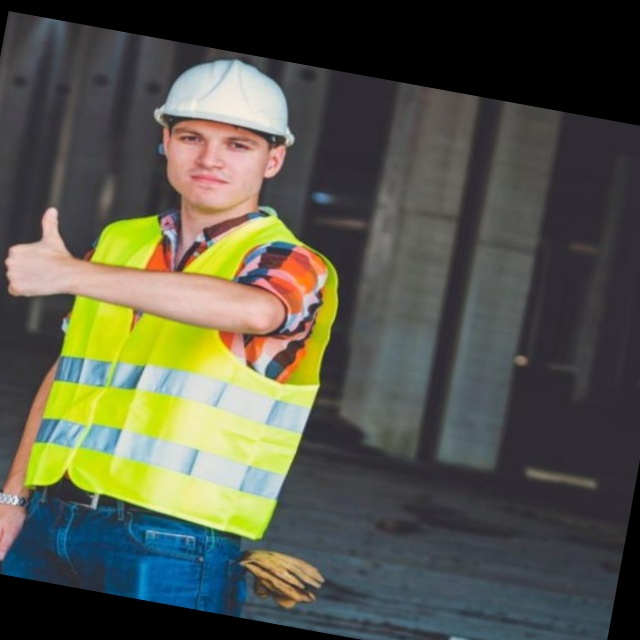Con_Casco: (139, 47, 305, 220)
Con_Chaleco: (17, 177, 352, 536)
